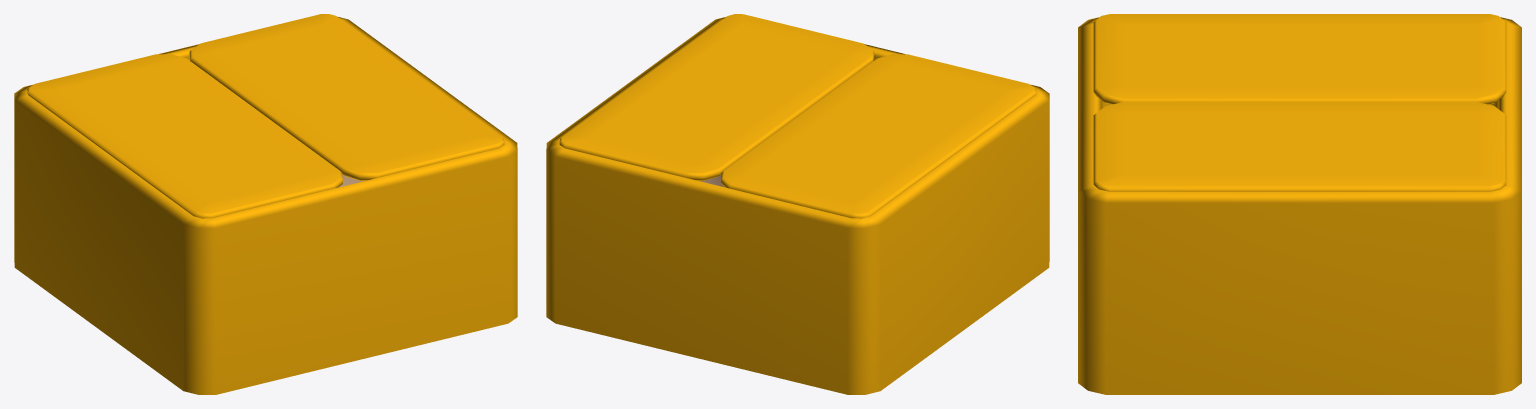
The model's file is Yellow_Box.fbx.
3 views of the same model, side by side, from view 1: azimuth 30°, elevation 25°; view 2: azimuth 150°, elevation 25°; view 3: azimuth 270°, elevation 25° (orthographic). The views are drawn at different scales.
Parts seen in each view (by area): view 1: Yellowbox, Yellowbox4, Yellowbox5; view 2: Yellowbox, Yellowbox4, Yellowbox5; view 3: Yellowbox, Yellowbox5, Yellowbox4.
Part boxes in pixels (x1,y1,x2,y2): Yellowbox: (14,17,517,394); Yellowbox4: (27,54,342,218); Yellowbox5: (189,14,504,180); Yellowbox: (546,17,1049,394); Yellowbox4: (721,54,1036,218); Yellowbox5: (559,14,874,180); Yellowbox: (1078,17,1521,394); Yellowbox5: (1093,102,1506,191); Yellowbox4: (1093,14,1506,104).
Size of the model in its own units: 252 by 126 by 252.
